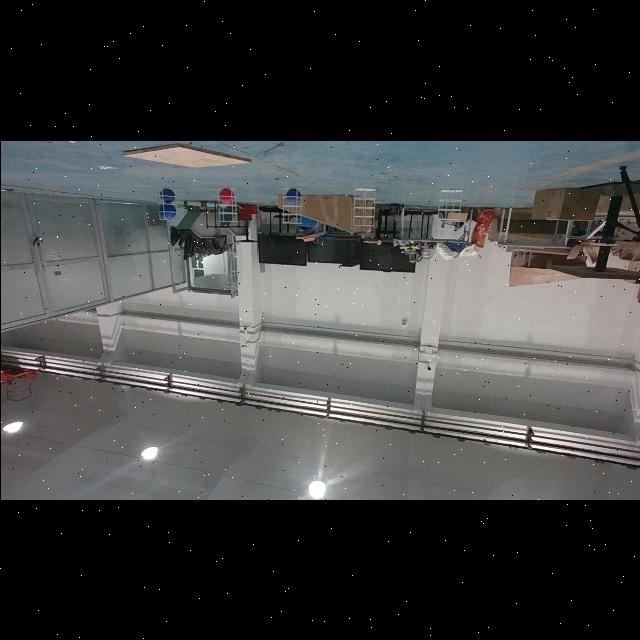B: (281, 188, 301, 202), (158, 204, 176, 218), (158, 188, 176, 202)
R: (216, 187, 234, 201)
S: (347, 185, 378, 228), (434, 187, 464, 230), (278, 186, 304, 226), (154, 184, 180, 222), (215, 186, 238, 224)
